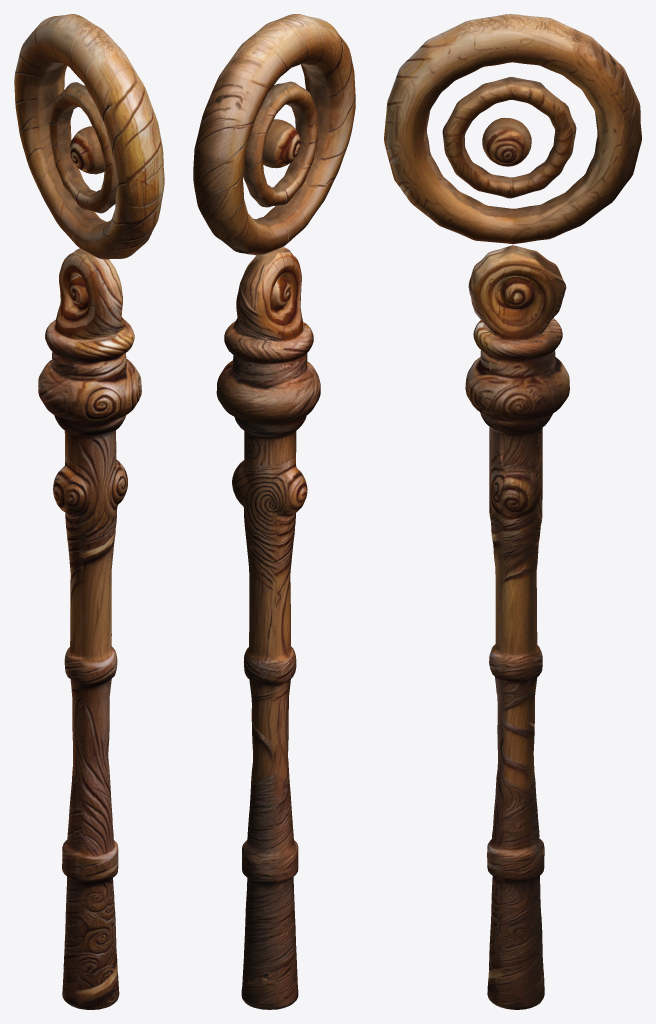
Rendered from staff.glb.
3 renders of one model, left to right at view 1: azimuth 30°, elevation 25°; view 2: azimuth 150°, elevation 25°; view 3: azimuth 270°, elevation 25°, orthographic.
Parts seen in each view (by area): view 1: Mesh_0; view 2: Mesh_0; view 3: Mesh_0.
Boxes of the visible parts, left/top/right/bottom form: Mesh_0: left=14, top=14, right=164, bottom=1009; Mesh_0: left=193, top=14, right=355, bottom=1009; Mesh_0: left=384, top=14, right=641, bottom=1009.
Bounding box in the file's own units: 0.1909 × 2 × 0.4752.
1 material, 1 textured.
